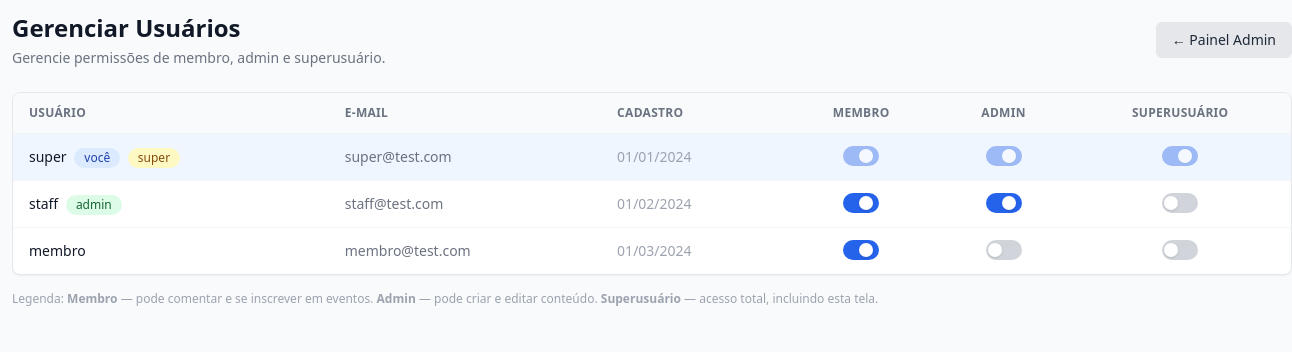
Test: UsersAdminPage — toggles › exibe mensagem de erro ao tentar alterar a si mesmo
This screenshot has width=1292, height=352.
Expected: the text "super@test.com" is shown, x1=329 y1=134 x2=601 y2=180
Click the button named "de super" at (861, 156), box x1=843 y1=146 x2=879 y2=166
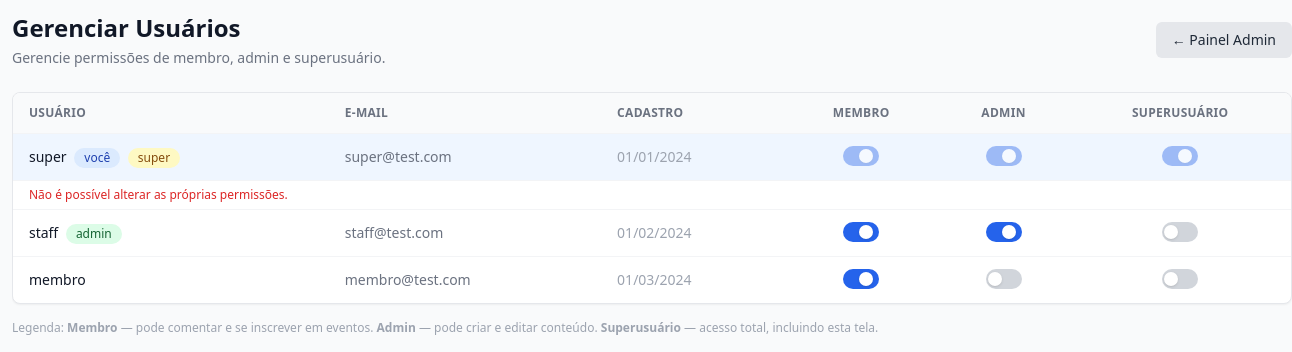
Now the text "Não é possível alterar as próprias permissões." is shown, box x1=13 y1=180 x2=1291 y2=210
